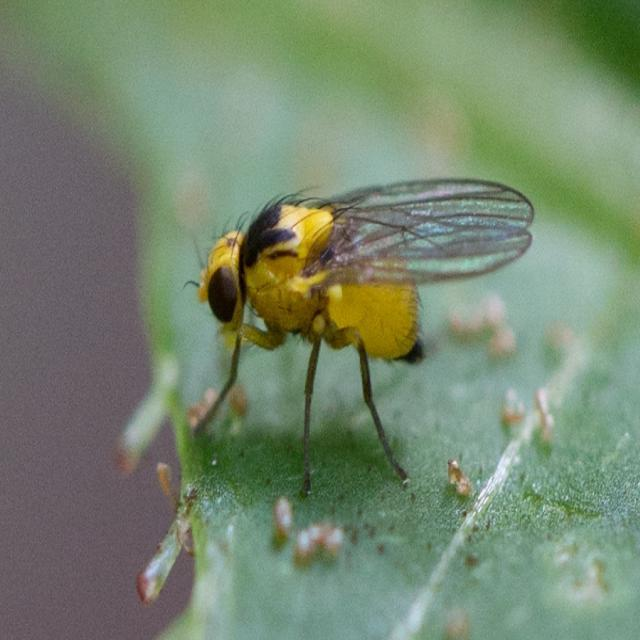Serpentine leafminer: (178, 176, 539, 507)
